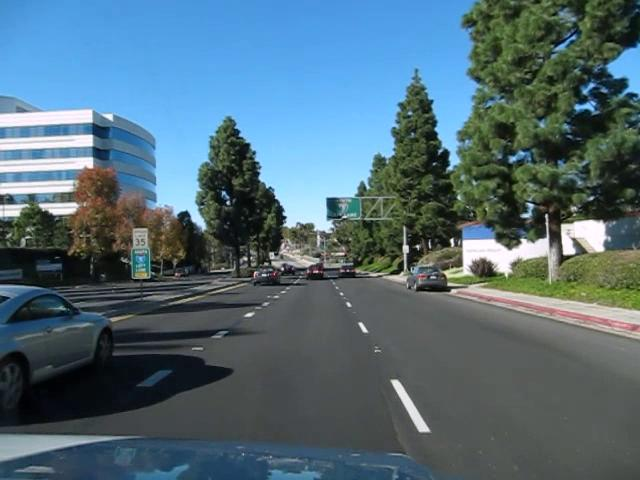speedLimit35: (131, 227, 148, 248)
